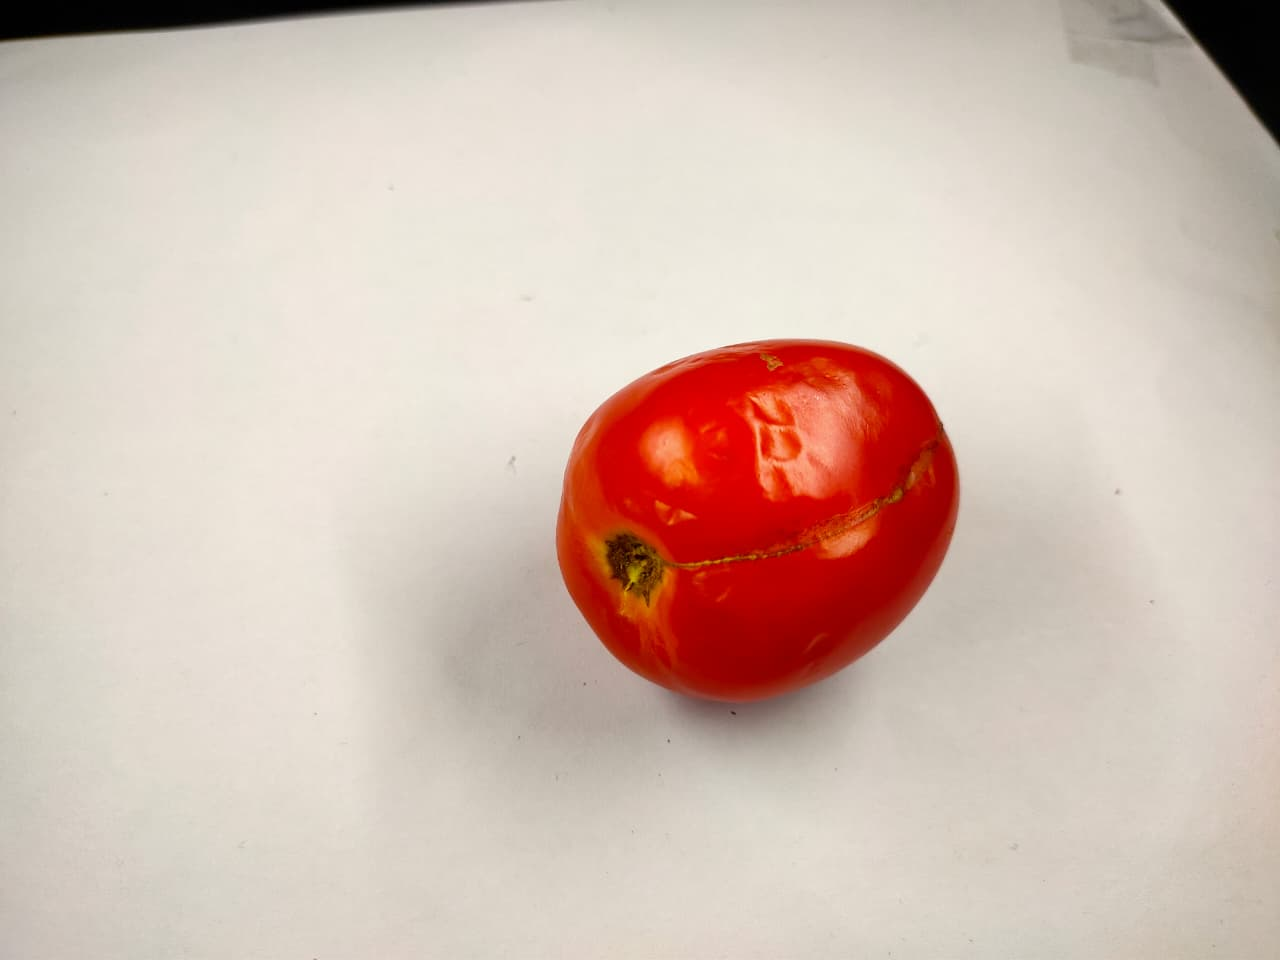damaged: (570, 354, 967, 707)
